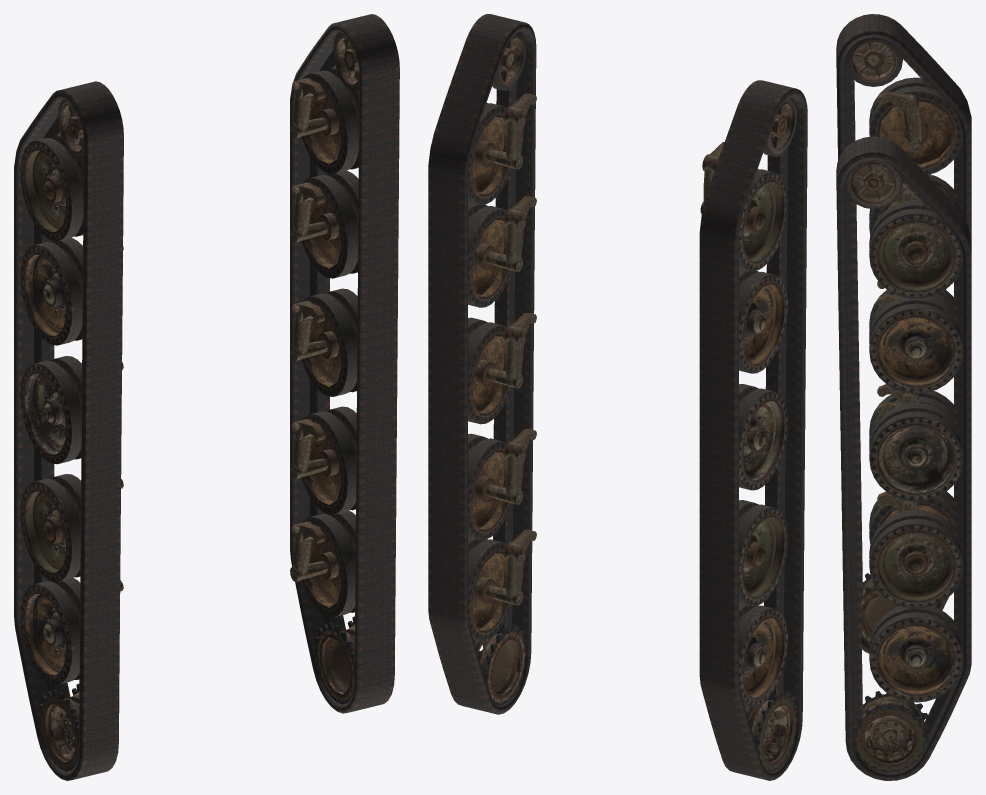
File: Chassis_01.glb
3 views of the same model, side by side, from view 1: azimuth 30°, elevation 25°; view 2: azimuth 150°, elevation 25°; view 3: azimuth 270°, elevation 25° (orthographic). The views are drawn at different scales.
Visible parts, largest first — view 1: set_0_group_0, set_1_group_0, set_3_group_0, set_2_group_0; view 2: set_0_group_0, set_1_group_0, set_3_group_0, set_2_group_0; view 3: set_3_group_0, set_1_group_0, set_2_group_0, set_0_group_0.
Part boxes in pixels (left/top/right/bottom): set_0_group_0: left=14, top=81, right=123, bottom=780; set_1_group_0: left=290, top=14, right=399, bottom=713; set_3_group_0: left=290, top=32, right=359, bottom=704; set_2_group_0: left=20, top=99, right=123, bottom=771; set_0_group_0: left=699, top=80, right=807, bottom=780; set_1_group_0: left=428, top=14, right=536, bottom=714; set_3_group_0: left=468, top=31, right=536, bottom=705; set_2_group_0: left=700, top=97, right=797, bottom=771; set_3_group_0: left=845, top=159, right=963, bottom=772; set_1_group_0: left=836, top=136, right=971, bottom=780; set_2_group_0: left=845, top=37, right=963, bottom=644; set_0_group_0: left=836, top=14, right=971, bottom=653.
Size of the model in its own units: 2.85 by 5.98 by 1.16.
4 materials, 4 textured.
